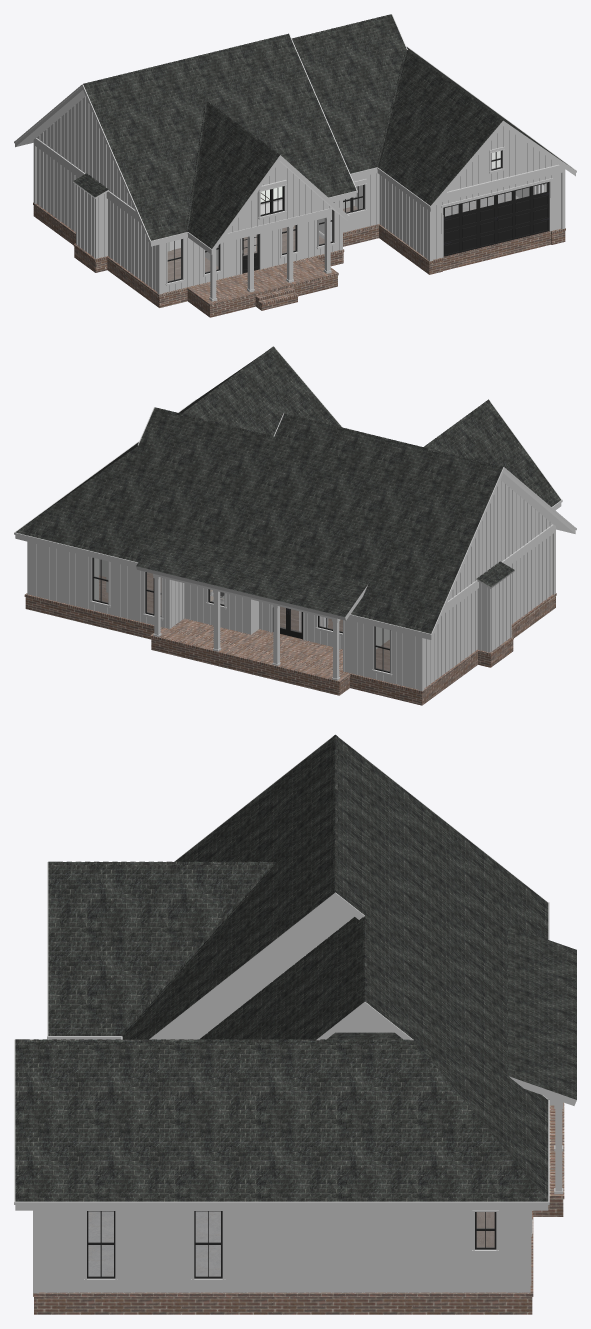
Rendered from american-y0.glb.
3 views of the same model, one above another, from view 1: azimuth 30°, elevation 25°; view 2: azimuth 150°, elevation 25°; view 3: azimuth 270°, elevation 25° (orthographic). The views are drawn at different scales.
Visible parts, largest first — view 1: US-Home-Roof_43, US-Home-Main_Walls_66, US-Home-Main_Foundation_67, US-Home-Wooden_Struts_65, US-Home-Support_Beams_45, US-Home-Door_Garage_17, US-Home-Roofing_Tiles_Trim_42, US-Home-Window_Single_09_61, US-Home-Window_Double_Small_02_52, US-Home-Door_Front_7, US-Home-Window_Single_06_58, US-Home-Window_Double_Small_01_50; view 2: US-Home-Roof_43, US-Home-Main_Walls_66, US-Home-Main_Foundation_67, US-Home-Wooden_Struts_65, US-Home-Support_Beams_45, US-Home-Roofing_Tiles_Trim_42, US-Home-Window_Single_03_55, US-Home-Window_Single_01_53, US-Home-Door_Double_01_5, US-Home-Window_Single_02_54; view 3: US-Home-Roof_43, US-Home-Main_Walls_66, US-Home-Main_Foundation_67, US-Home-Wooden_Struts_65, US-Home-Roofing_Tiles_Trim_42, US-Home-Window_Single_05_57, US-Home-Window_Single_04_56, US-Home-Support_Beams_45, US-Home-Window_Small_02_63.
Part boxes in pixels (box(x1,y1,x2,y2)): US-Home-Roof_43: box(14, 14, 576, 254); US-Home-Main_Walls_66: box(36, 97, 561, 292); US-Home-Main_Foundation_67: box(33, 192, 565, 317); US-Home-Wooden_Struts_65: box(39, 96, 558, 291); US-Home-Support_Beams_45: box(33, 138, 565, 301); US-Home-Door_Garage_17: box(443, 182, 549, 256); US-Home-Roofing_Tiles_Trim_42: box(83, 14, 503, 231); US-Home-Window_Single_09_61: box(165, 238, 184, 285); US-Home-Window_Double_Small_02_52: box(258, 180, 286, 219); US-Home-Door_Front_7: box(242, 234, 259, 273); US-Home-Window_Single_06_58: box(316, 201, 336, 249); US-Home-Window_Double_Small_01_50: box(343, 179, 366, 215); US-Home-Roof_43: box(14, 346, 576, 639); US-Home-Main_Walls_66: box(27, 480, 552, 689); US-Home-Main_Foundation_67: box(24, 572, 556, 705); US-Home-Wooden_Struts_65: box(36, 480, 550, 688); US-Home-Support_Beams_45: box(153, 524, 555, 691); US-Home-Roofing_Tiles_Trim_42: box(154, 346, 503, 468); US-Home-Window_Single_03_55: box(89, 557, 110, 607); US-Home-Window_Single_01_53: box(371, 626, 392, 676); US-Home-Door_Double_01_5: box(272, 607, 302, 639); US-Home-Window_Single_02_54: box(142, 571, 163, 620); US-Home-Roof_43: box(14, 734, 576, 1210); US-Home-Main_Walls_66: box(39, 901, 530, 1292); US-Home-Main_Foundation_67: box(33, 1102, 564, 1314); US-Home-Wooden_Struts_65: box(46, 903, 531, 1292); US-Home-Roofing_Tiles_Trim_42: box(15, 735, 408, 1042); US-Home-Window_Single_05_57: box(84, 1210, 117, 1282); US-Home-Window_Single_04_56: box(191, 1210, 225, 1282); US-Home-Support_Beams_45: box(33, 1096, 563, 1293); US-Home-Window_Small_02_63: box(472, 1210, 498, 1253).
Size of the model in its own units: 19.5 by 8.64 by 15.47.
19 materials, 14 textured.
